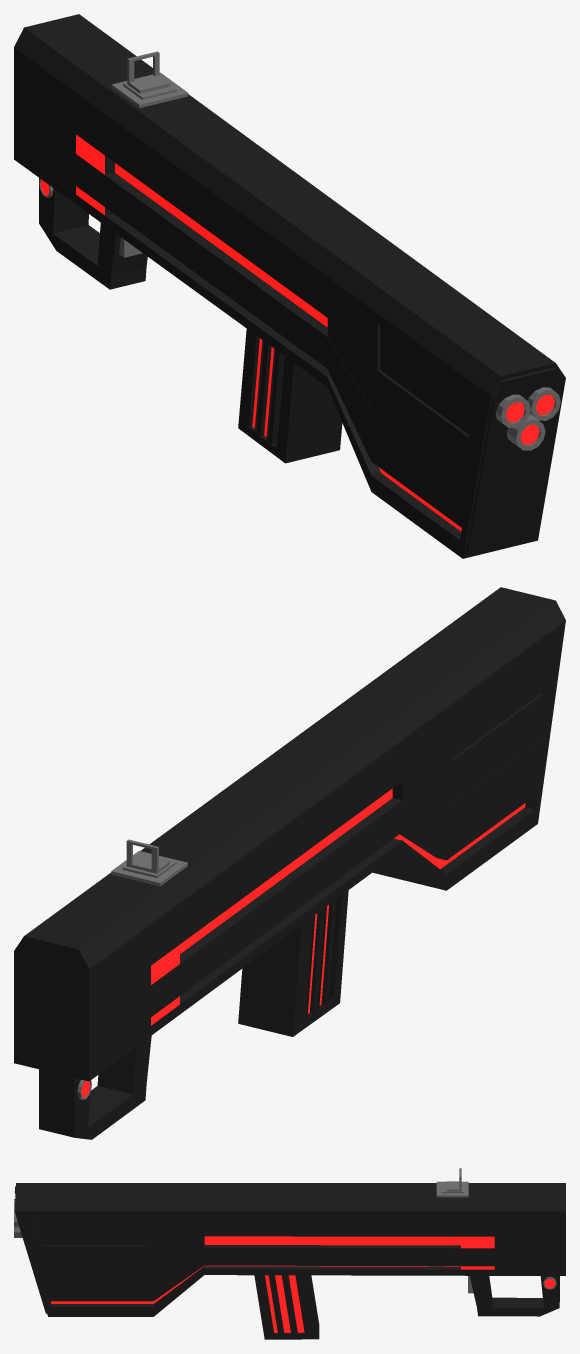
File: Gun.fbx
3 views of the same model, one above another, from view 1: azimuth 30°, elevation 25°; view 2: azimuth 150°, elevation 25°; view 3: azimuth 270°, elevation 25° (orthographic). The views are drawn at different scales.
Visible parts, largest first — view 1: Cube, Cube.001, Cube.002, Cylinder.003, Cylinder.001, Cylinder.002; view 2: Cube, Cube.001, Cube.002; view 3: Cube, Cube.001.
Boxes of the visible parts, left/top/right/bottom form: Cube: left=14, top=14, right=565, bottom=558; Cube.001: left=111, top=72, right=188, bottom=107; Cube.002: left=127, top=51, right=170, bottom=93; Cylinder.003: left=496, top=394, right=530, bottom=428; Cylinder.001: left=506, top=414, right=545, bottom=450; Cylinder.002: left=527, top=387, right=560, bottom=420; Cube: left=14, top=587, right=565, bottom=1139; Cube.001: left=111, top=851, right=187, bottom=886; Cube.002: left=126, top=839, right=169, bottom=873; Cube: left=14, top=1183, right=565, bottom=1339; Cube.001: left=436, top=1181, right=468, bottom=1197.
Bounding box in the file's own units: 74.35 × 262 × 820.
